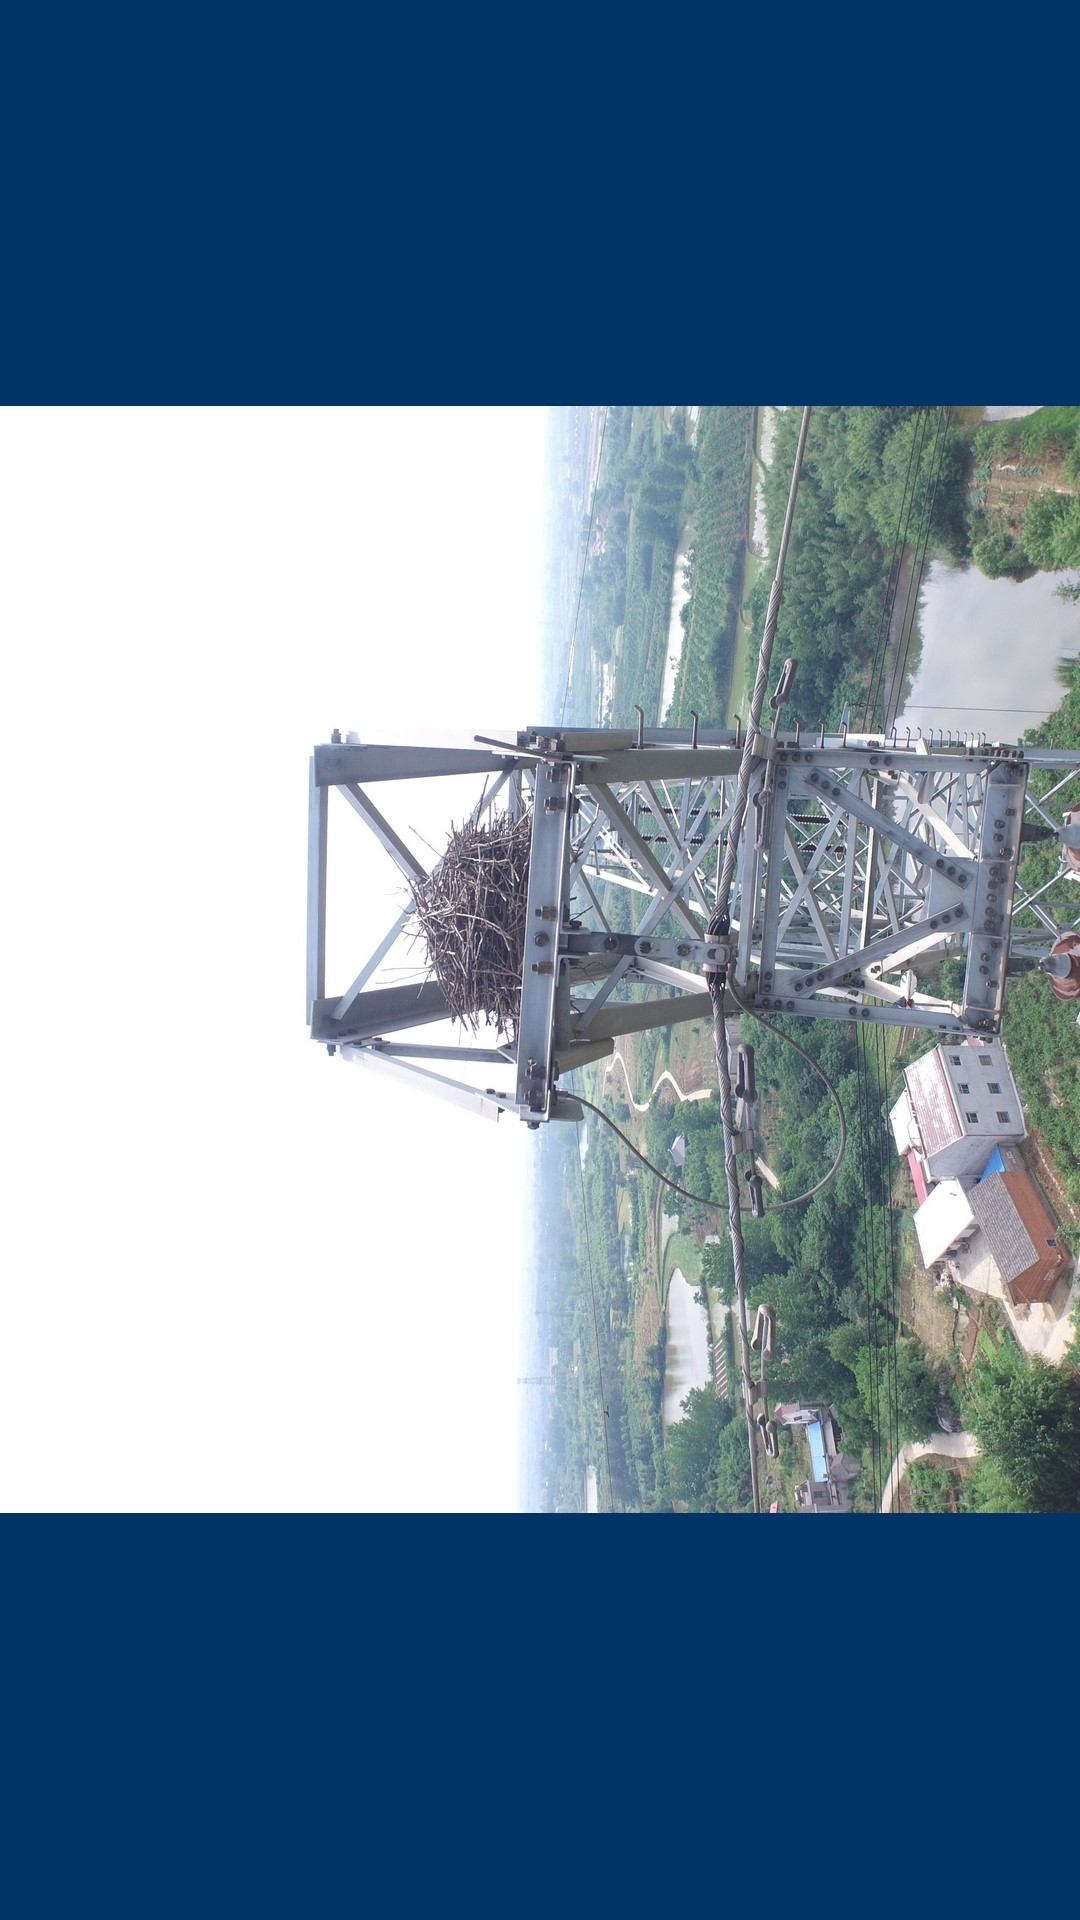niaowo: (364, 798, 596, 1036)
